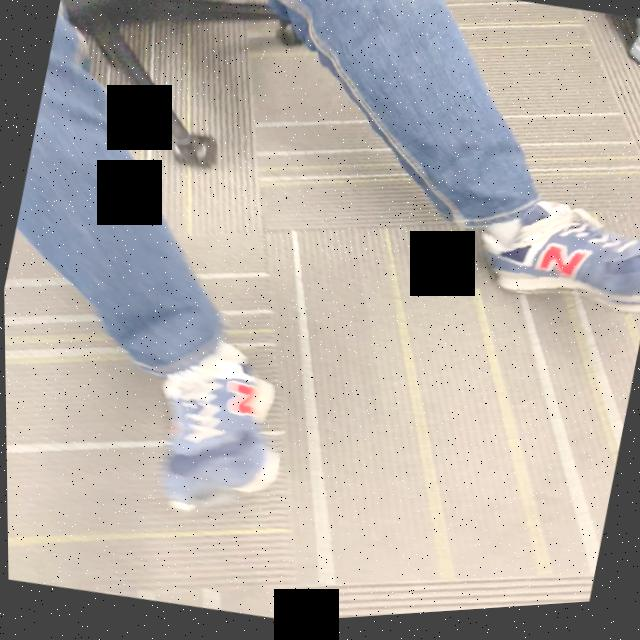shoe: (159, 346, 278, 517), (478, 209, 640, 313)
